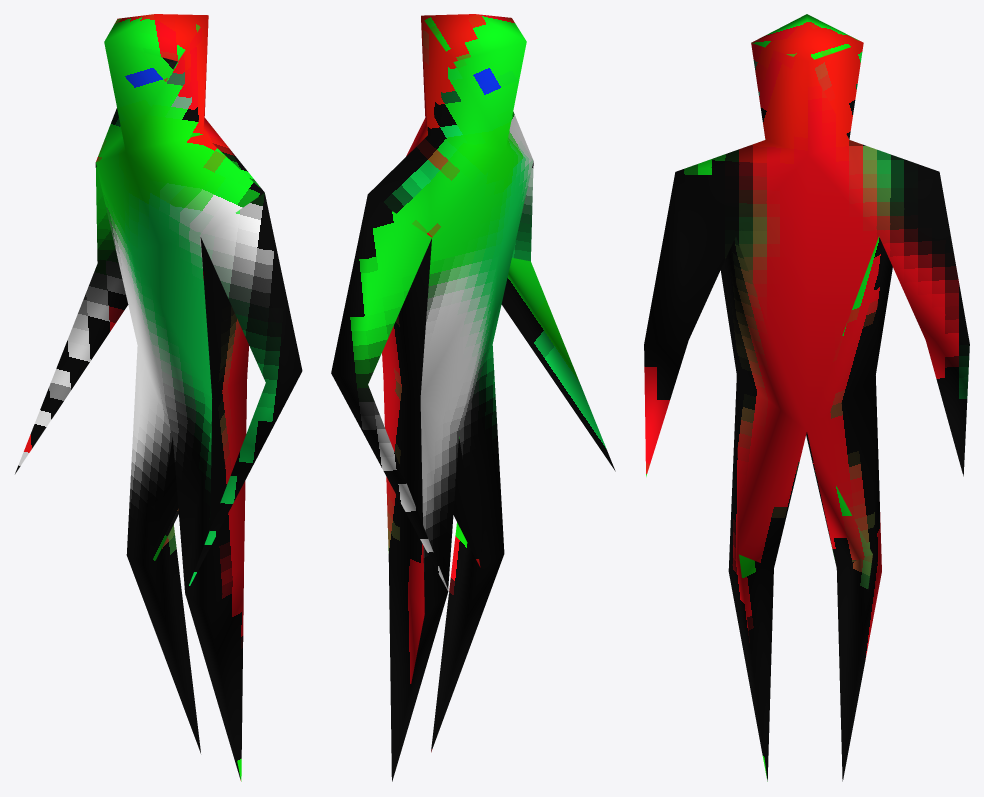
The model's file is manuvmap.gltf.
3 renders of one model, left to right at view 1: azimuth 30°, elevation 25°; view 2: azimuth 150°, elevation 25°; view 3: azimuth 270°, elevation 25°, orthographic. The views are drawn at different scales.
Parts seen in each view (by area): view 1: unit; view 2: unit; view 3: unit.
Boxes of the visible parts, x1,y1,x2,y2 form: unit: [15, 14, 302, 781]; unit: [331, 14, 615, 781]; unit: [644, 14, 969, 781].
Size of the model in its own units: 0.2718 by 1.33 by 0.539.
Materials: 1 (1 with a texture image).
